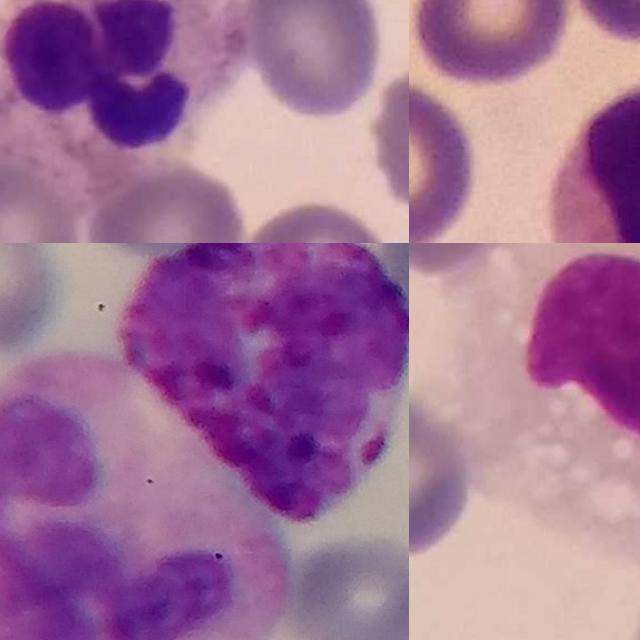Basophil: (125, 243, 409, 527)
Monocyte: (443, 243, 640, 563)
Neutrophil: (0, 347, 294, 640), (0, 0, 249, 191), (546, 70, 640, 243)
